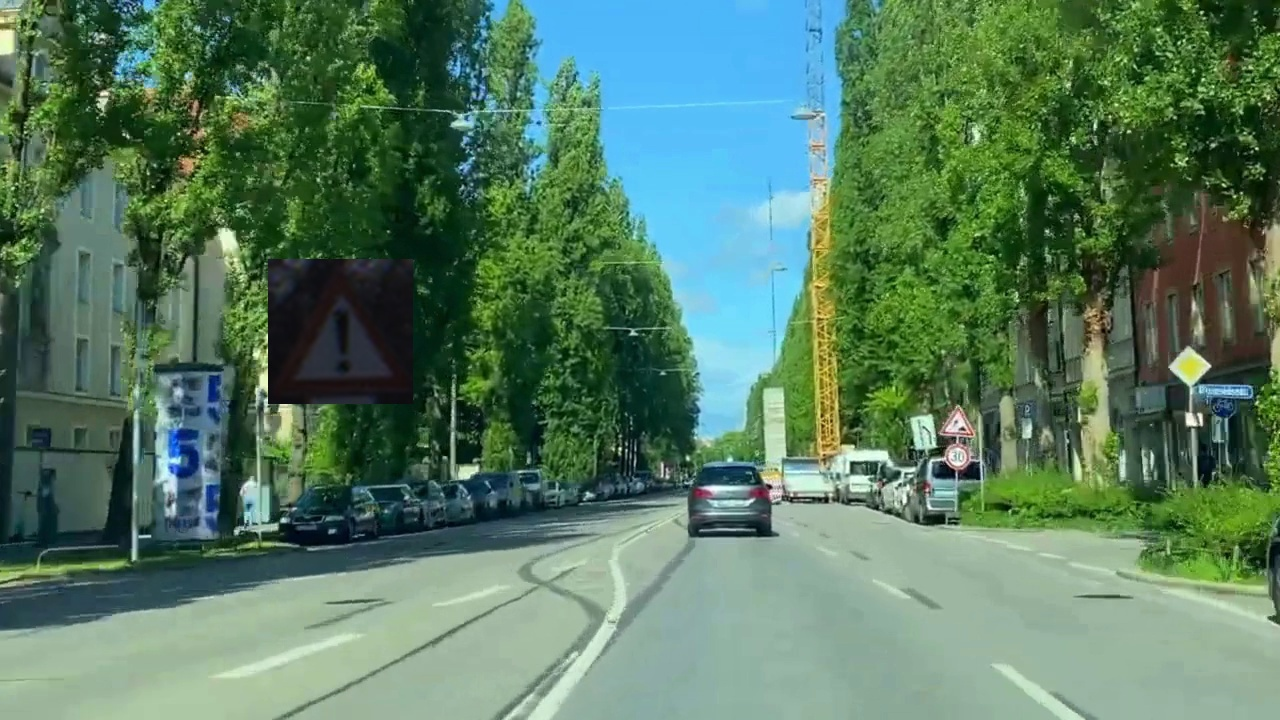Caution: (268, 259, 413, 404)
